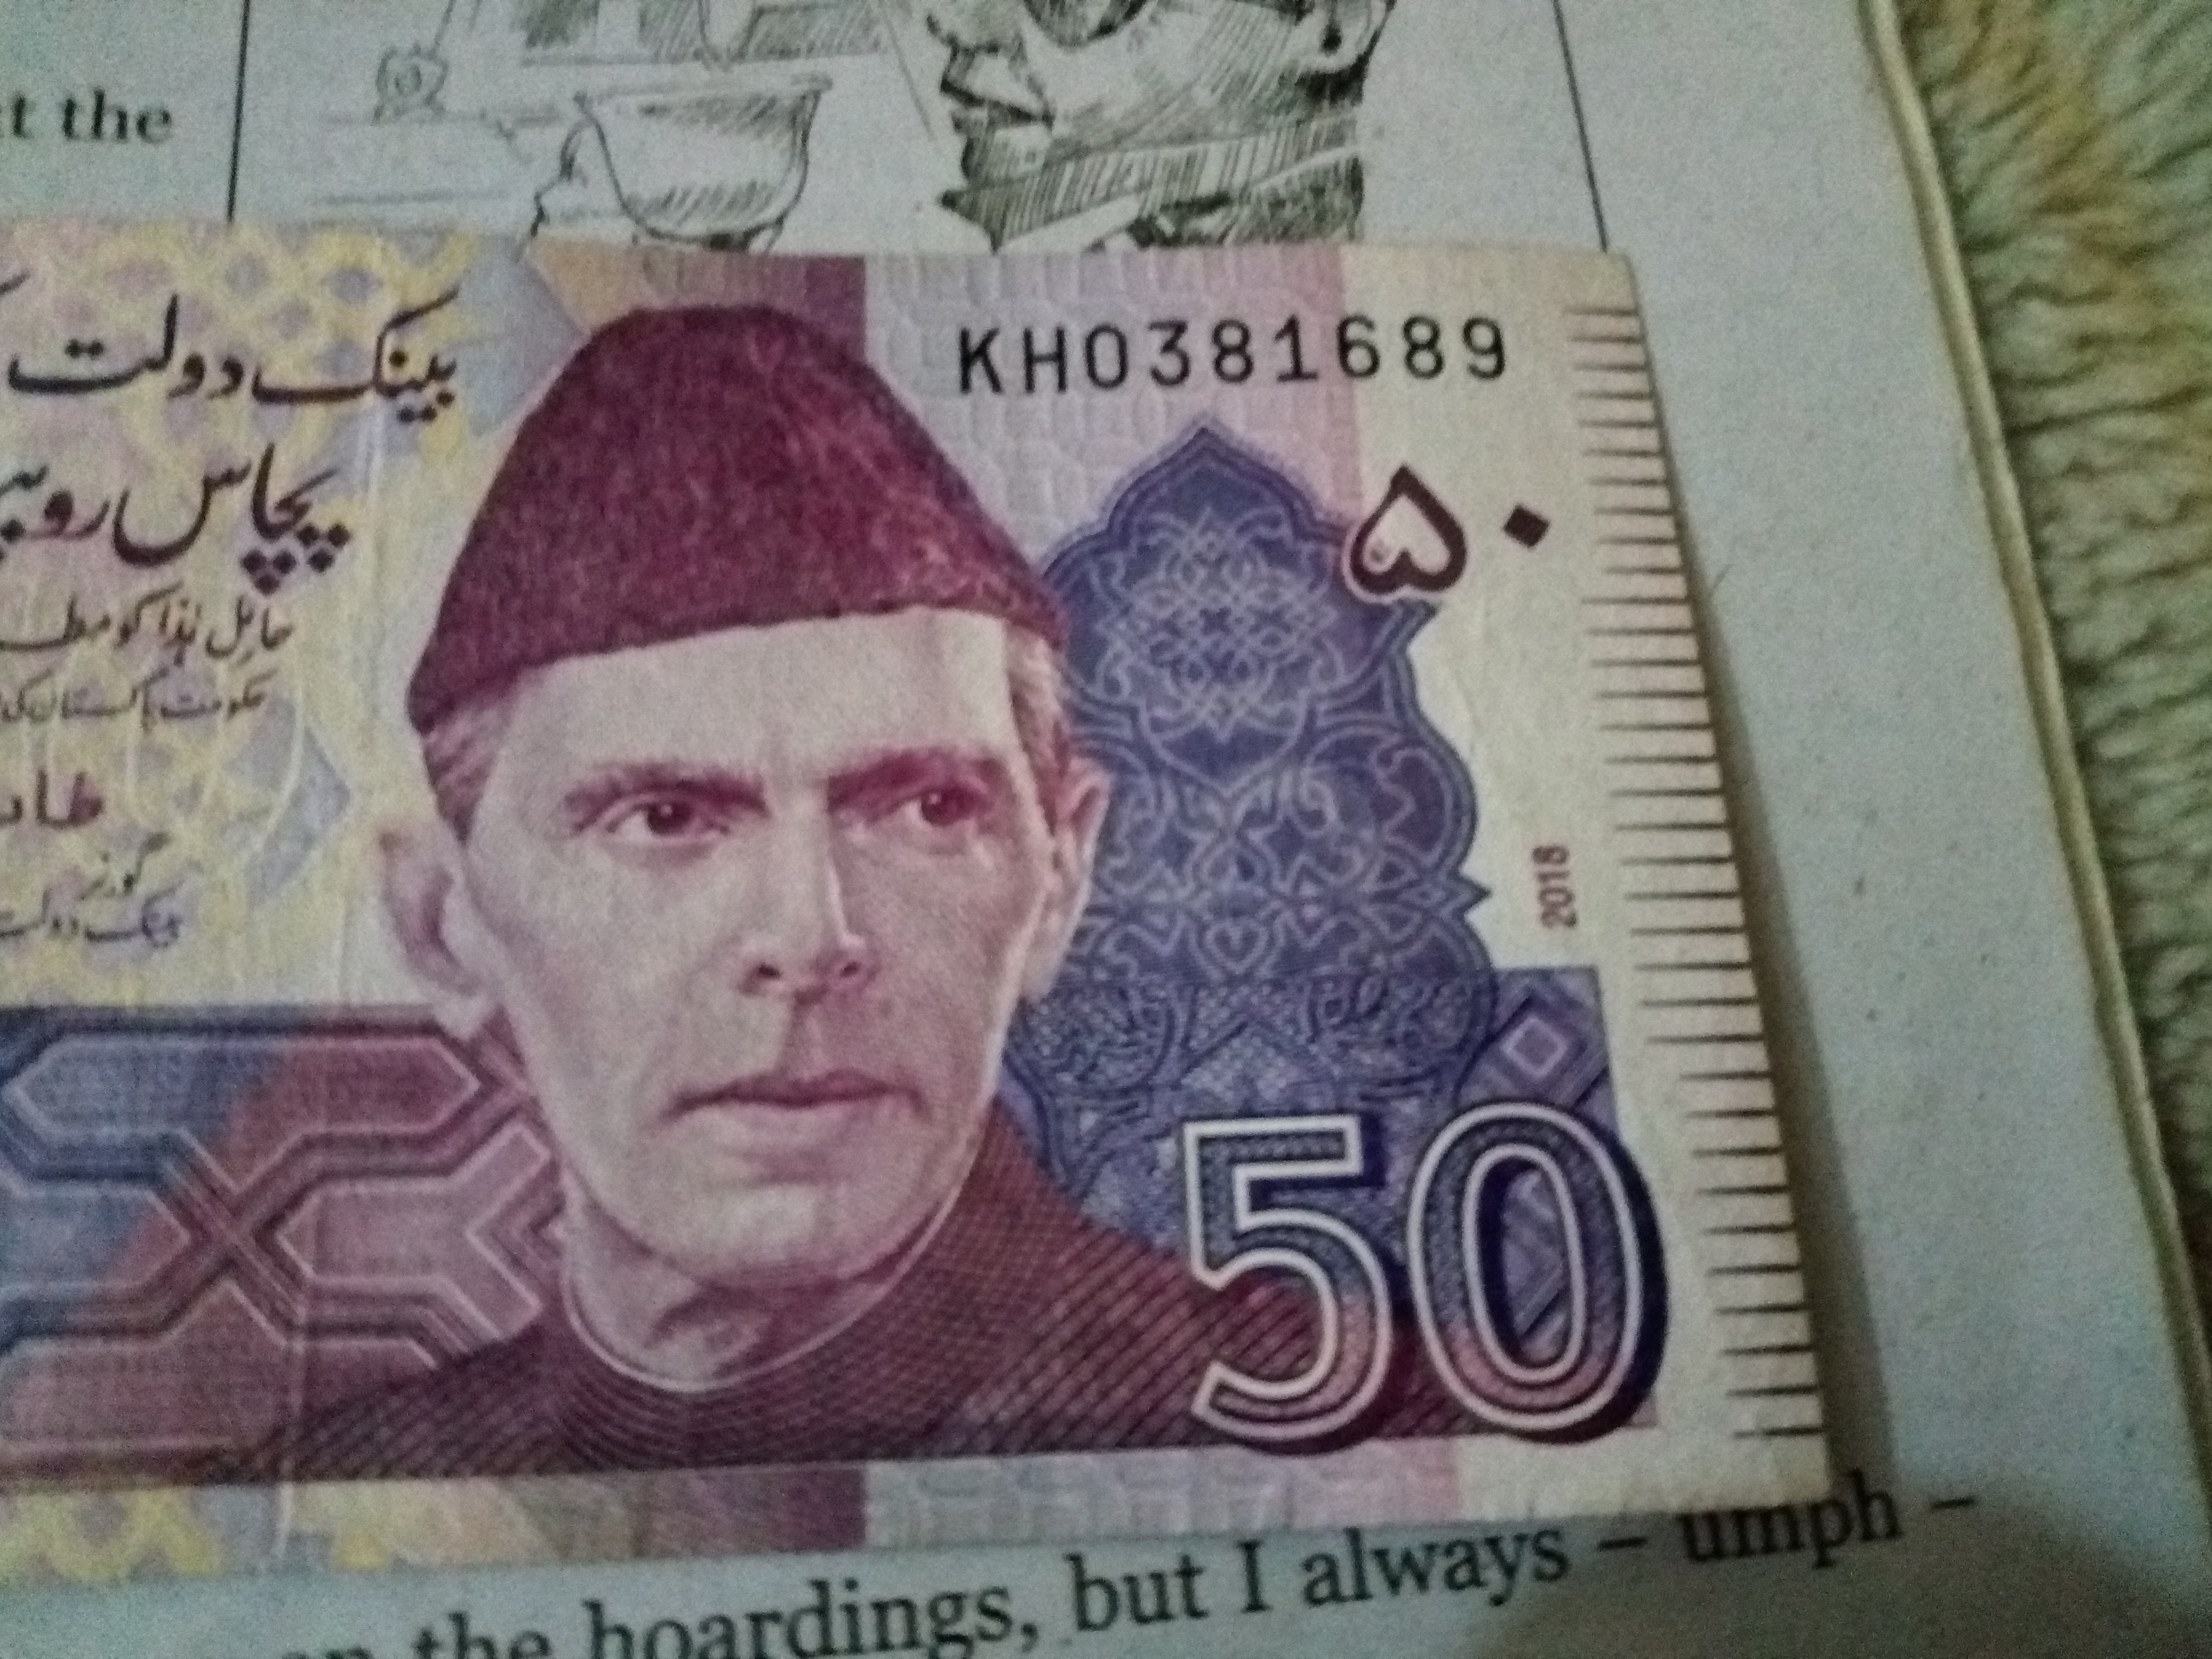50 rupee: (26, 199, 1815, 1528)
